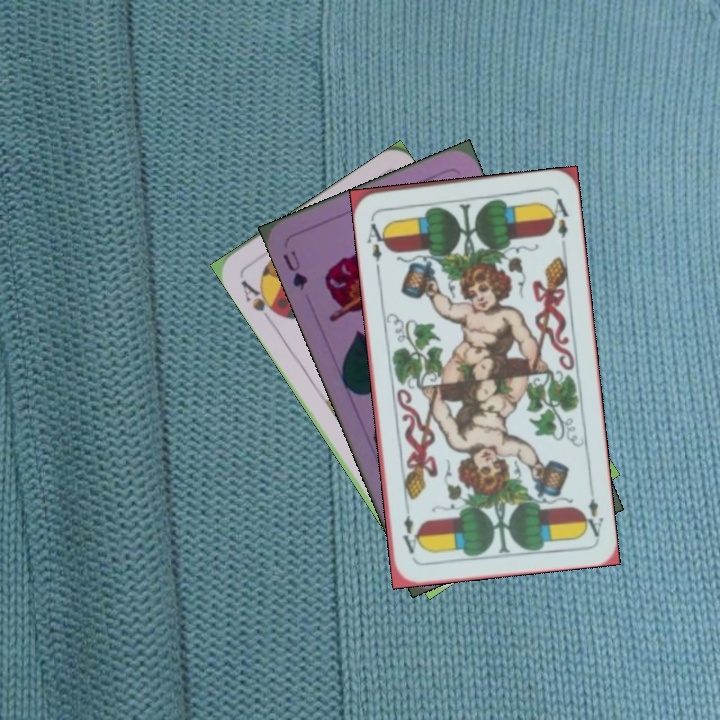EA: (578, 481, 607, 540), (362, 213, 390, 272)
GU: (279, 246, 311, 293)
SA: (236, 276, 283, 326)
